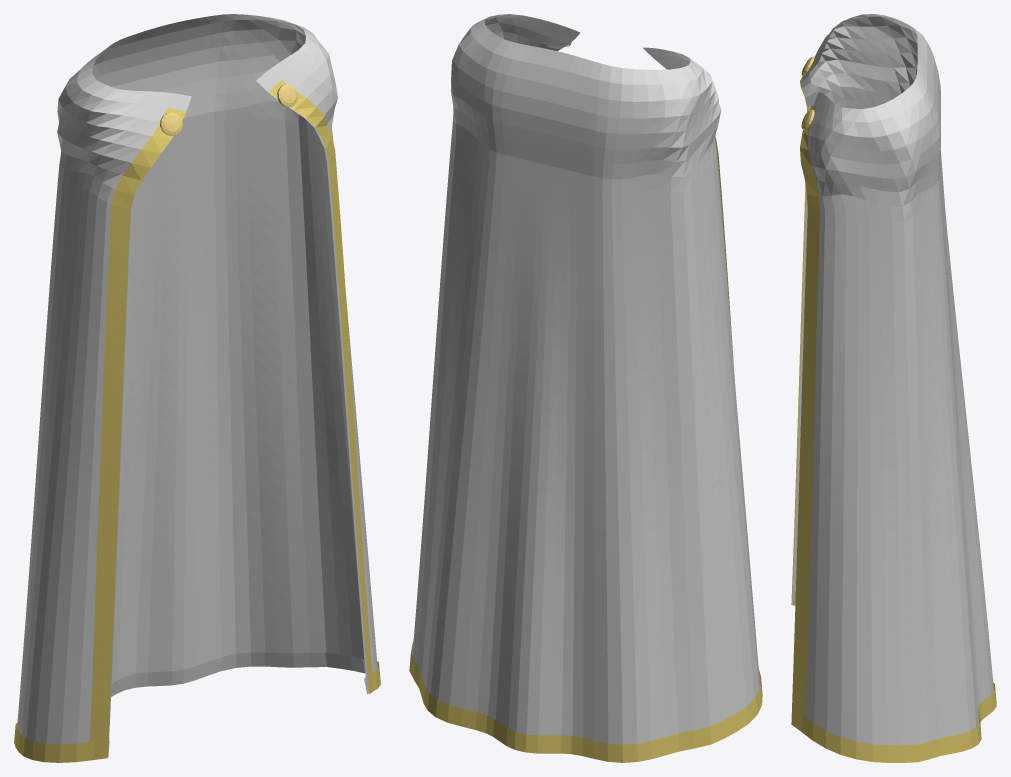
File: ewb_cape_knight.glb
The picture shows the model from 3 angles, left to right: view 1: azimuth 30°, elevation 25°; view 2: azimuth 150°, elevation 25°; view 3: azimuth 270°, elevation 25°; orthographic projection. The views are drawn at different scales.
Parts seen in each view (by area): view 1: ewb_cape_knight; view 2: ewb_cape_knight; view 3: ewb_cape_knight.
Boxes of the visible parts, left/top/right/bottom form: ewb_cape_knight: left=14, top=14, right=380, bottom=762; ewb_cape_knight: left=409, top=14, right=762, bottom=762; ewb_cape_knight: left=791, top=14, right=996, bottom=762.
Size of the model in its own units: 0.6848 by 1.33 by 0.3779.
